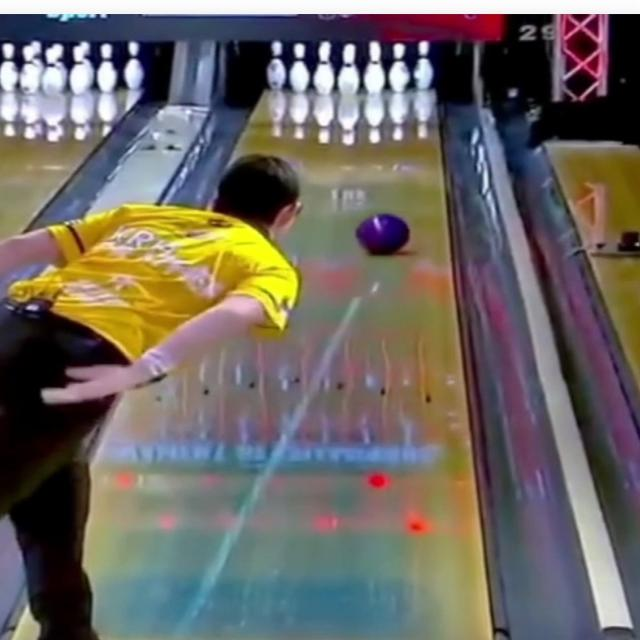alley: (85, 91, 490, 639)
balls: (357, 214, 408, 254)
bottle: (266, 41, 434, 95)
